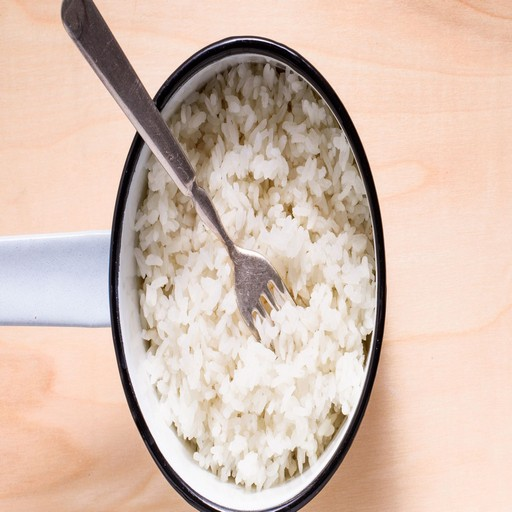rice: (163, 234, 222, 421)
